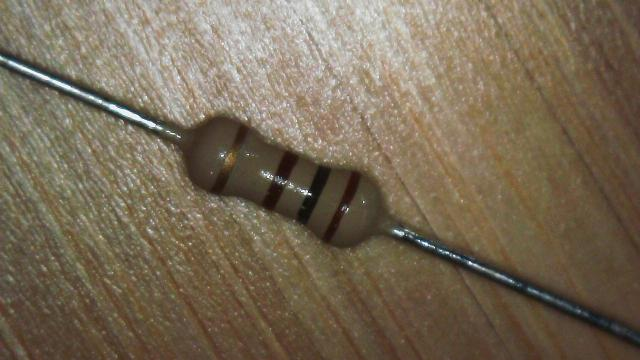black: (298, 166, 330, 225)
brown: (323, 170, 361, 243), (262, 152, 298, 210)
gold: (212, 123, 248, 194)
resistor: (151, 71, 427, 285)
